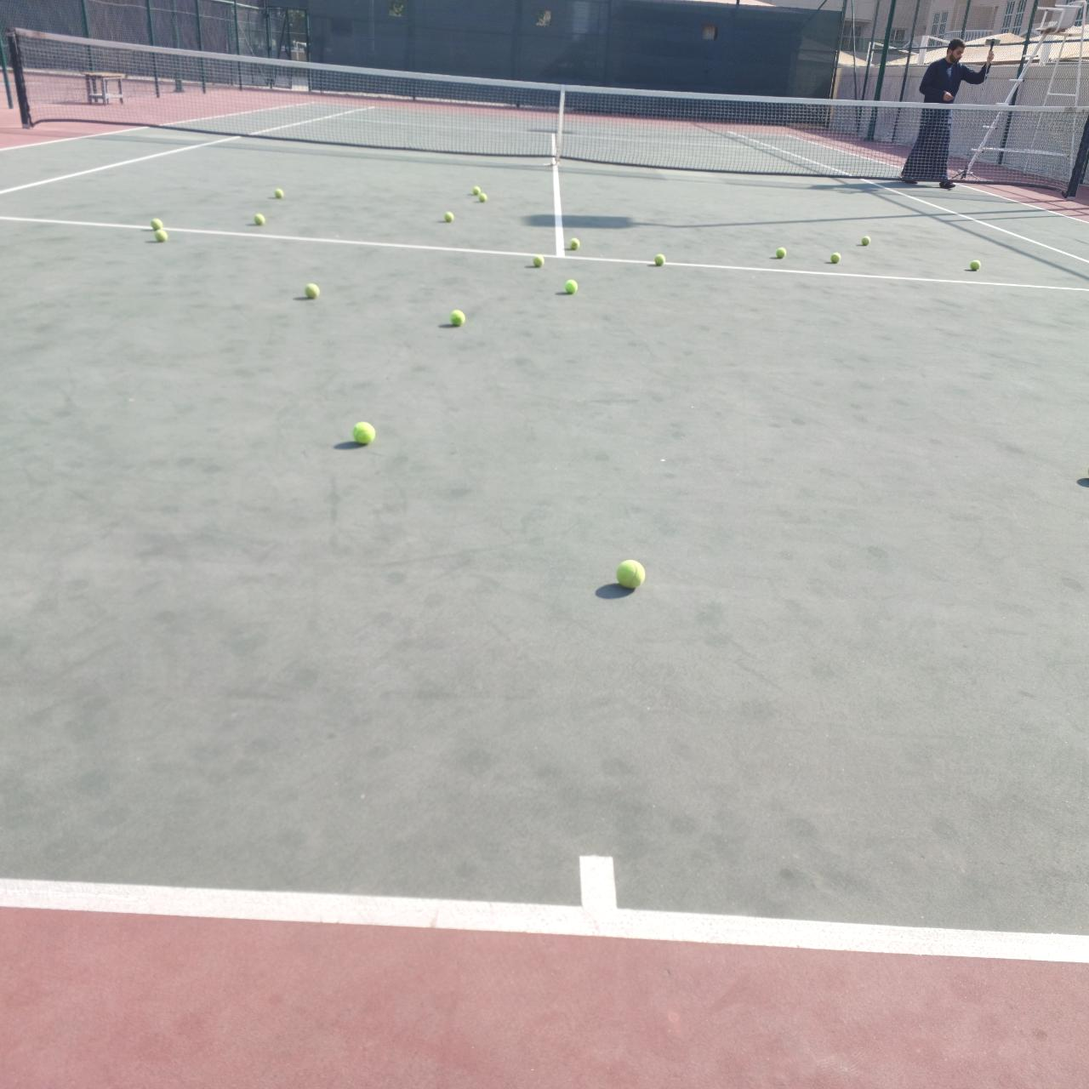tennis-ball: (616, 556, 647, 590), (352, 419, 378, 445), (450, 307, 467, 326), (305, 281, 322, 298), (154, 229, 169, 243), (566, 277, 579, 293), (654, 252, 667, 266), (150, 218, 163, 231), (253, 214, 265, 226), (830, 252, 842, 264), (533, 255, 544, 268), (970, 260, 982, 271), (444, 211, 455, 223), (569, 238, 580, 249), (776, 247, 786, 259), (274, 188, 284, 199), (861, 236, 871, 246), (472, 185, 481, 196), (478, 192, 487, 202)
